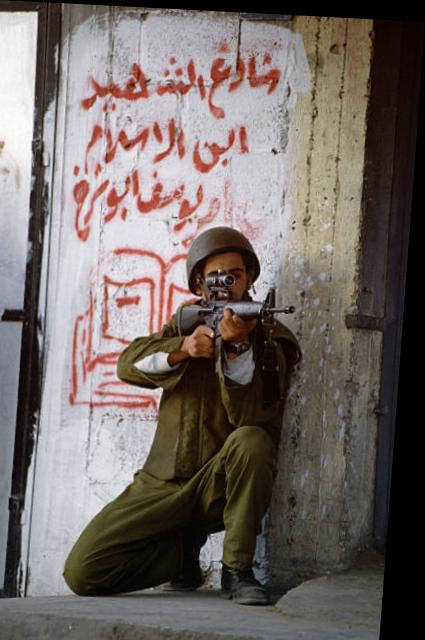other: (67, 219, 307, 599)
